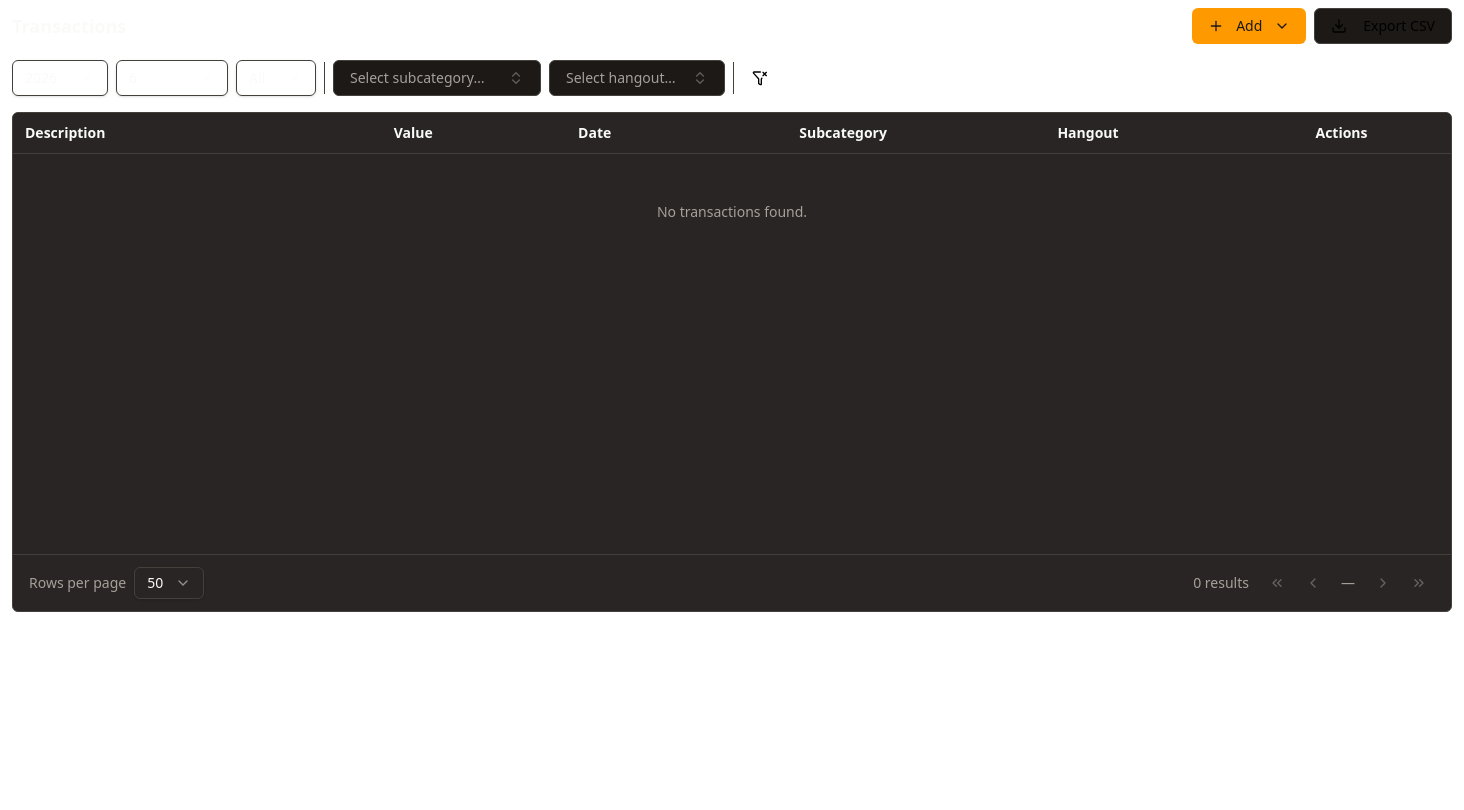
it: Transactions screen › has Add button with Transaction and Bulk menu
Click the button "Add" at (1249, 26), box [1192, 8, 1306, 44]
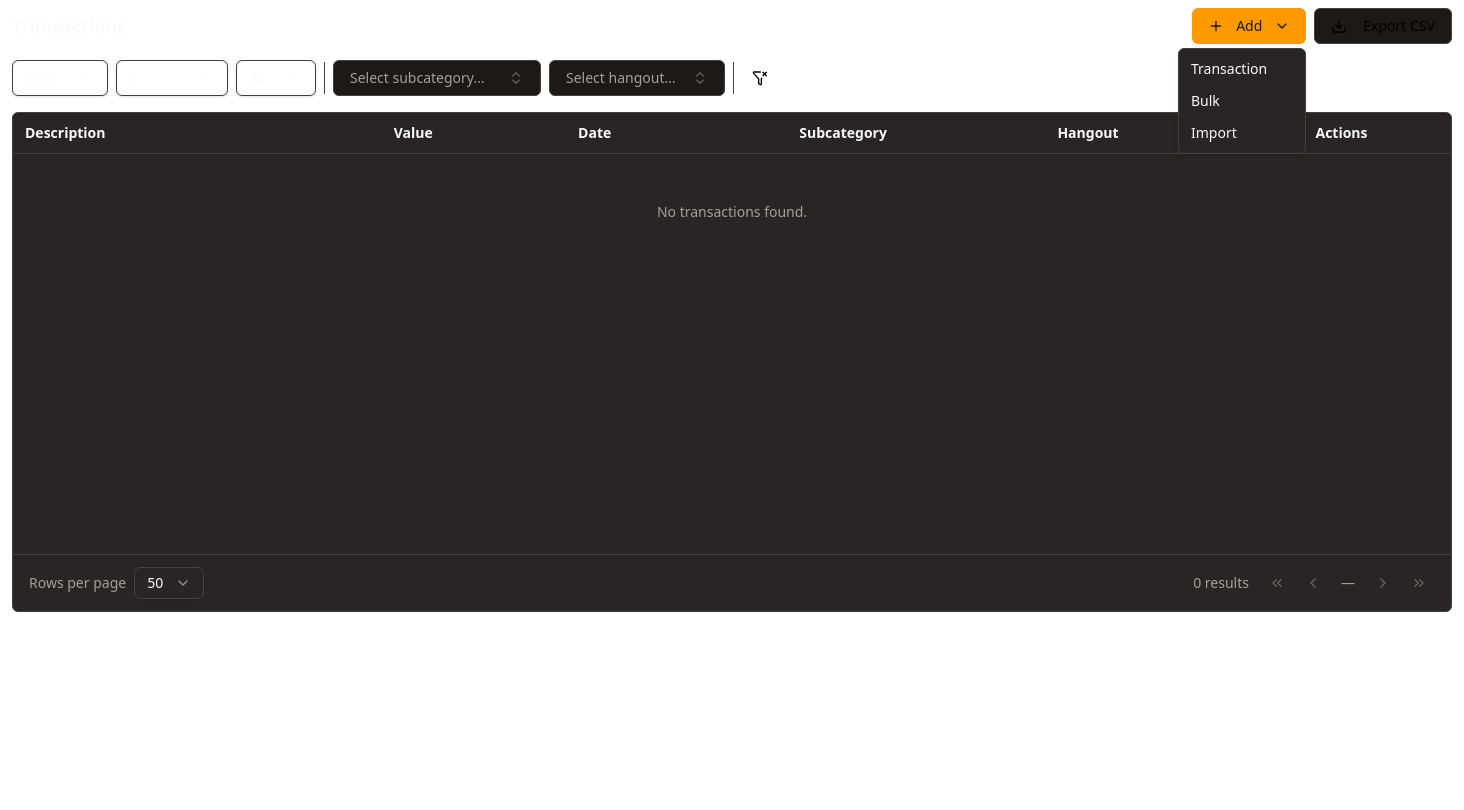
Now the menu item "Transaction" is shown, box [1191, 59, 1267, 78]
Now the menu item "Bulk" is shown, box [1191, 91, 1220, 110]
